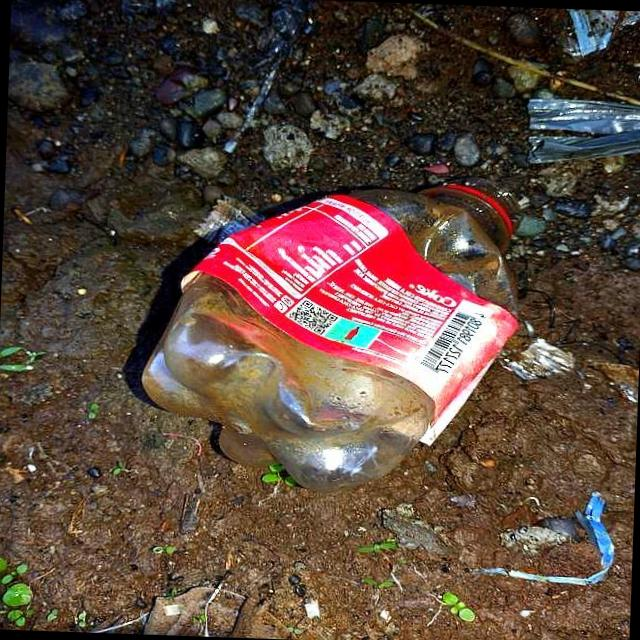Non-biodegradable: (136, 168, 528, 502)
